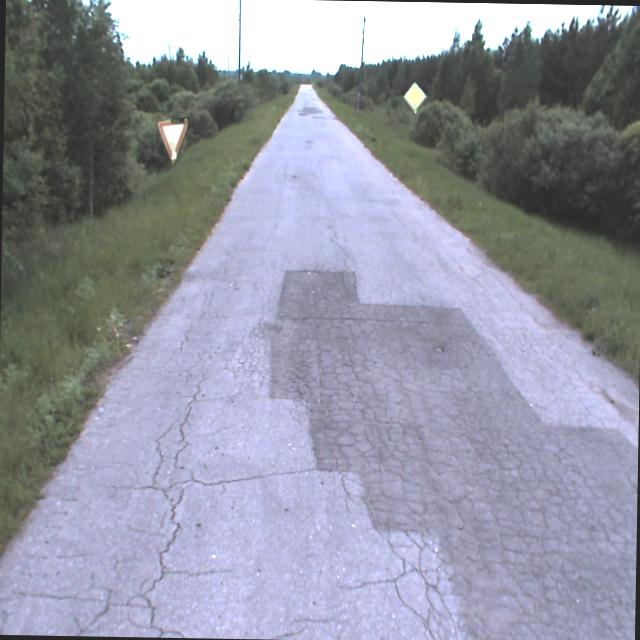road: (0, 83, 638, 640)
